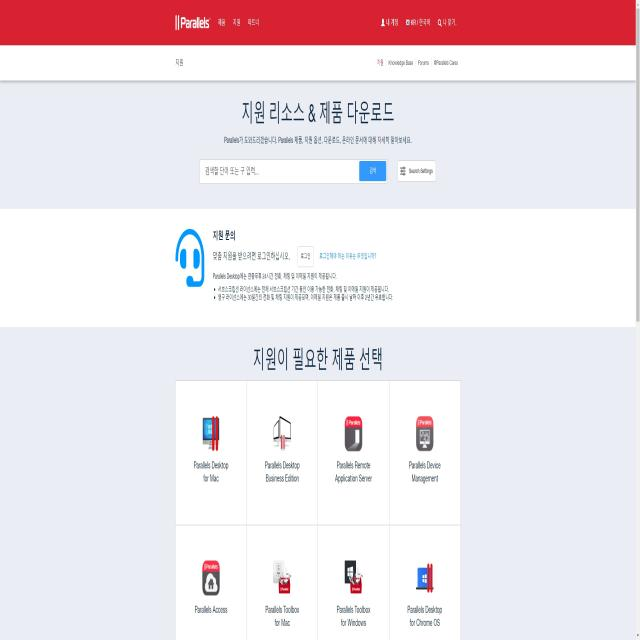menu-bar: (376, 10, 456, 38)
search: (204, 155, 388, 184)
tab-bar: (374, 49, 464, 79), (218, 11, 262, 34)
